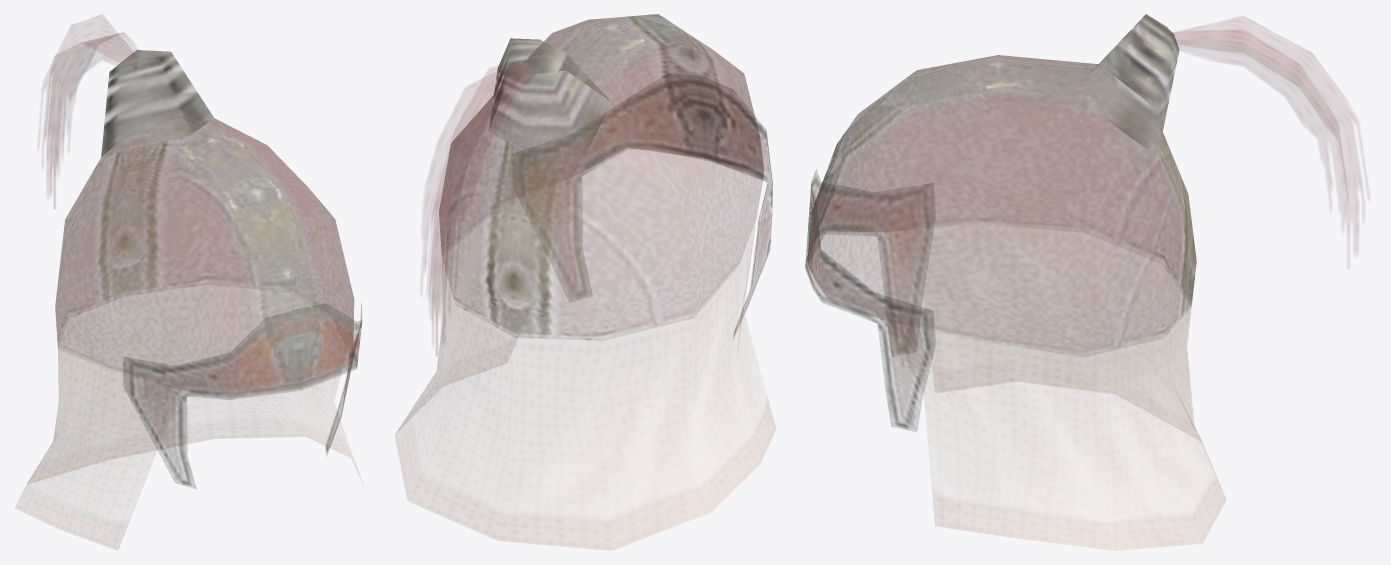
The model's file is heavy_01_ha.glb.
The picture shows the model from 3 angles, left to right: view 1: azimuth 30°, elevation 25°; view 2: azimuth 150°, elevation 25°; view 3: azimuth 270°, elevation 25°; orthographic projection. The views are drawn at different scales.
Parts seen in each view (by area): view 1: Heavy_01_ha; view 2: Heavy_01_ha; view 3: Heavy_01_ha.
Part boxes in pixels (bbox=[...]): Heavy_01_ha: bbox=[16, 15, 362, 548]; Heavy_01_ha: bbox=[395, 14, 774, 548]; Heavy_01_ha: bbox=[805, 14, 1361, 549].
Bounding box in the file's own units: 0.187 × 0.2692 × 0.2879.
1 material, 1 textured.
